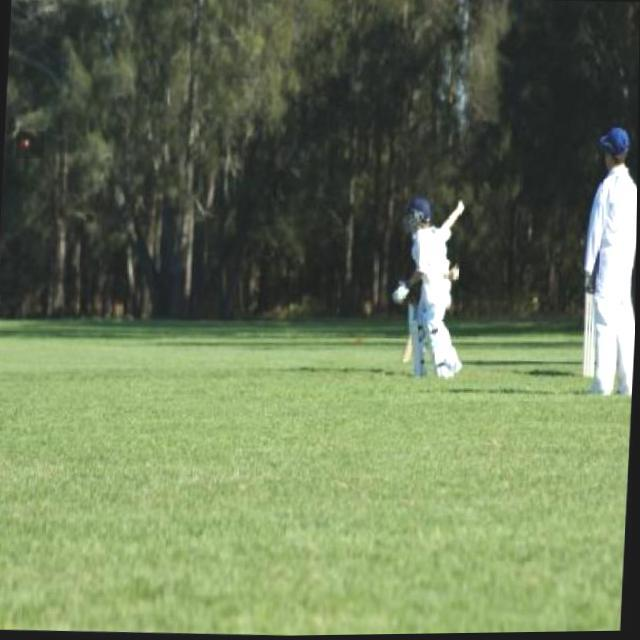-: (16, 132, 44, 158)
